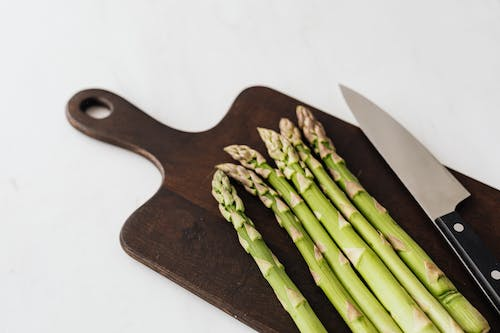knife: (337, 81, 500, 318)
